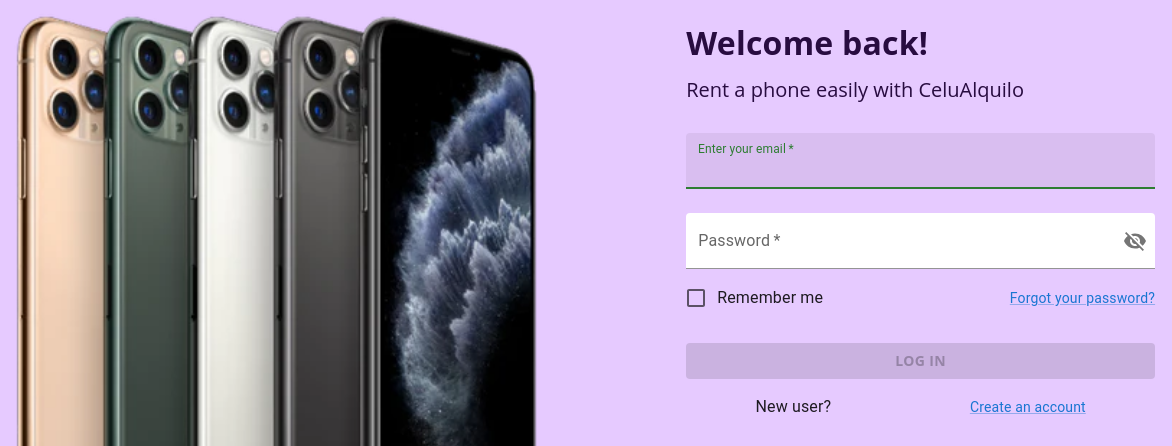
Test: email and password are not empty
The image size is (1172, 446).
Step 1. Click the element with test id "email" → (921, 161), box [686,133,1155,189]
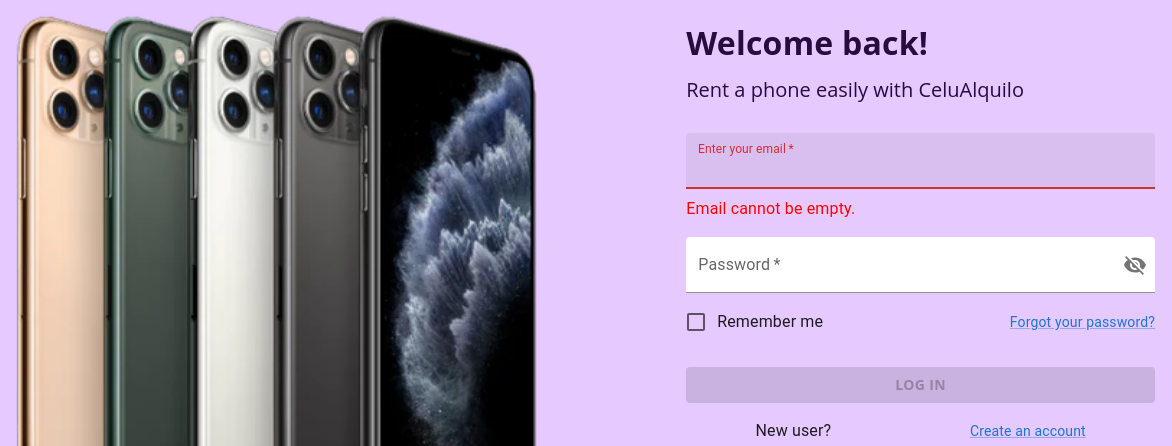
Step 2. Click the element with test id "password" → (921, 265), box [686,237,1155,293]
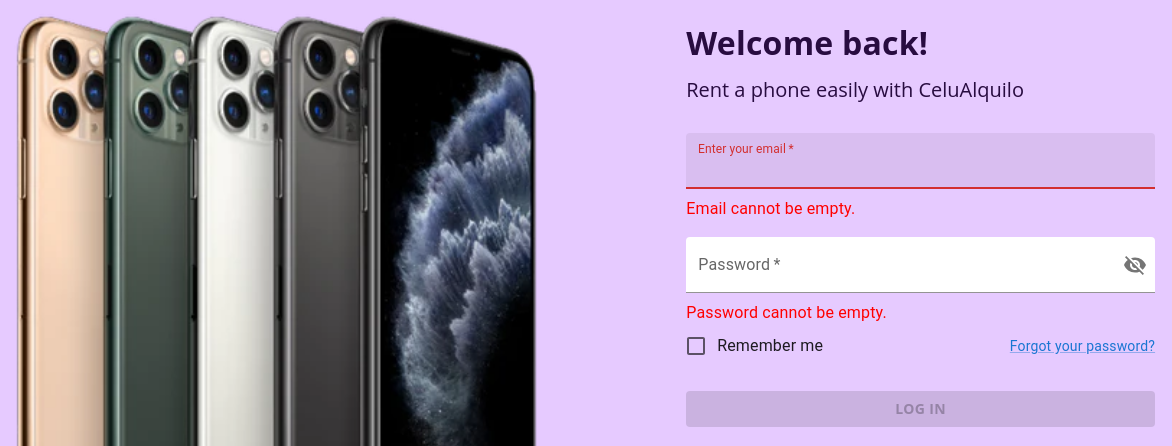
Result: the text with test id "emailError" reads "Email cannot be empty." at [686,199,855,218]
Result: the text with test id "passwordError" reads "Password cannot be empty." at [686,303,887,322]
